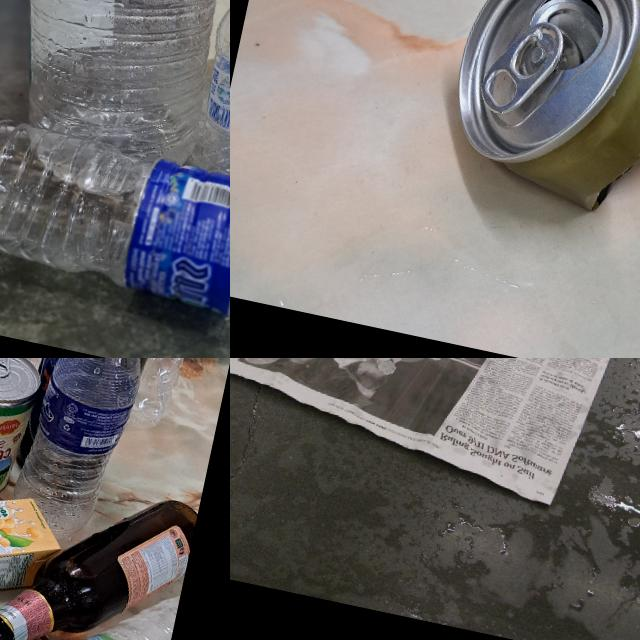aba de lata: (476, 12, 566, 122), (0, 358, 12, 379)
caixinha: (0, 469, 70, 619)
garrafa de vidro: (0, 461, 199, 640), (11, 358, 194, 494)
garrafa plástica: (0, 115, 230, 344), (0, 0, 230, 209), (5, 358, 149, 549), (0, 567, 179, 640), (188, 0, 230, 184)
lata: (433, 0, 640, 258), (0, 358, 45, 508)
papel: (230, 358, 640, 517)
